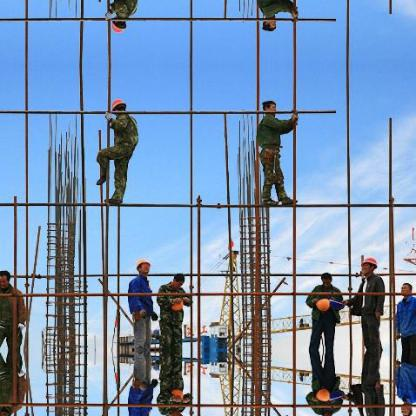head: (259, 97, 279, 116), (259, 13, 279, 32), (399, 278, 414, 297), (171, 269, 186, 287), (318, 266, 333, 284), (0, 267, 13, 285), (398, 400, 414, 414), (170, 410, 186, 414)
helmet: (359, 252, 379, 275), (109, 95, 128, 116), (109, 13, 128, 34), (133, 255, 151, 273)
